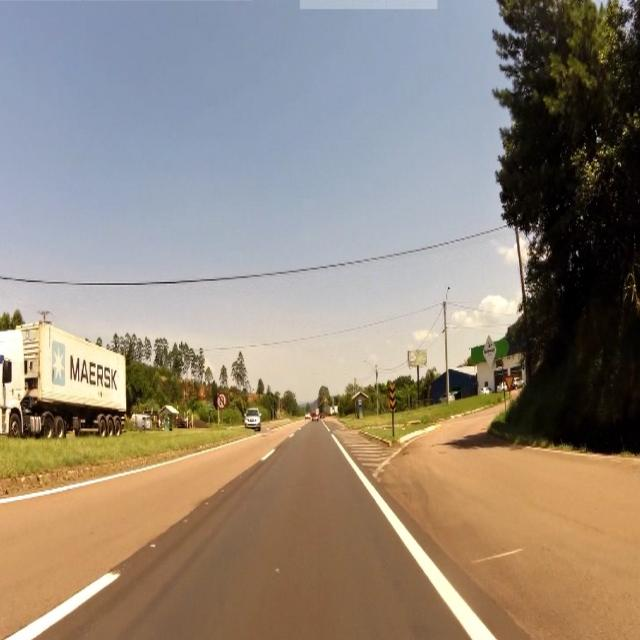MP: (388, 384, 397, 415)
R-2: (503, 376, 519, 394)
R-5a: (216, 389, 226, 414)
